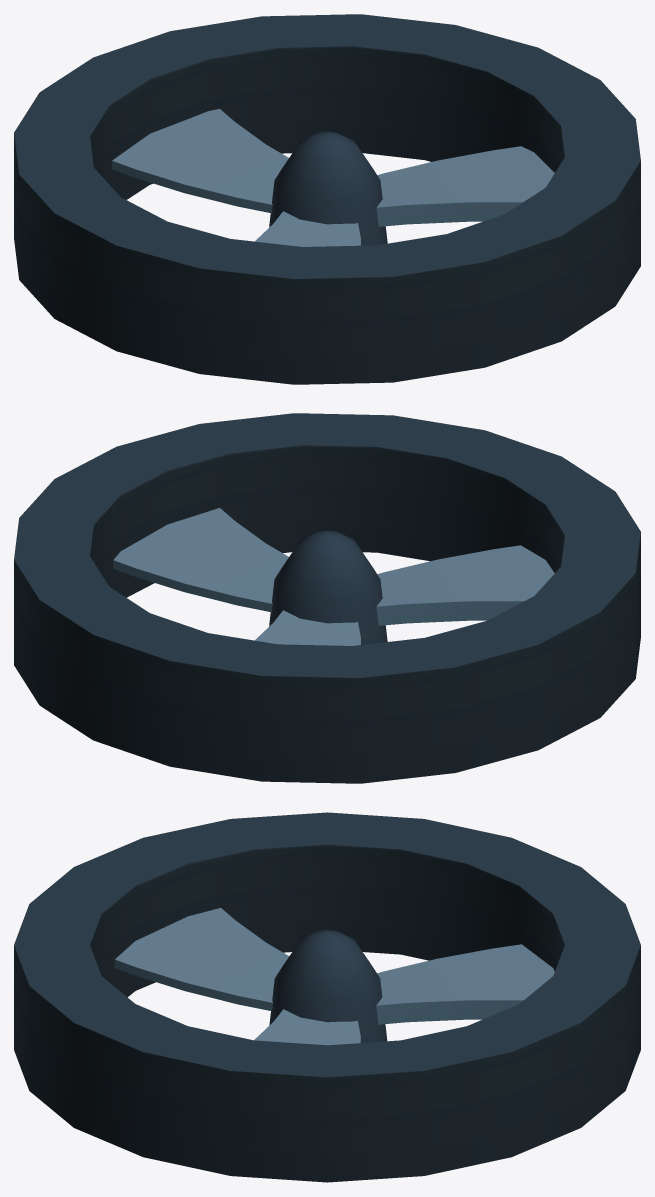
Rendered from MESH_Helice_01.fbx.
3 views of the same model, one above another, from view 1: azimuth 30°, elevation 25°; view 2: azimuth 150°, elevation 25°; view 3: azimuth 270°, elevation 25° (orthographic).
Visible parts, largest first — view 1: MESH_Support_Helice_01, MESH_Helice_01; view 2: MESH_Support_Helice_01, MESH_Helice_01; view 3: MESH_Support_Helice_01, MESH_Helice_01.
Boxes of the visible parts, box(x1,y1,x2,y2) form: MESH_Support_Helice_01: box(14, 14, 640, 384); MESH_Helice_01: box(112, 109, 554, 246); MESH_Support_Helice_01: box(14, 413, 640, 783); MESH_Helice_01: box(113, 508, 554, 645); MESH_Support_Helice_01: box(14, 812, 640, 1182); MESH_Helice_01: box(114, 908, 554, 1045).
Size of the model in its own units: 2 by 0.4105 by 2.
